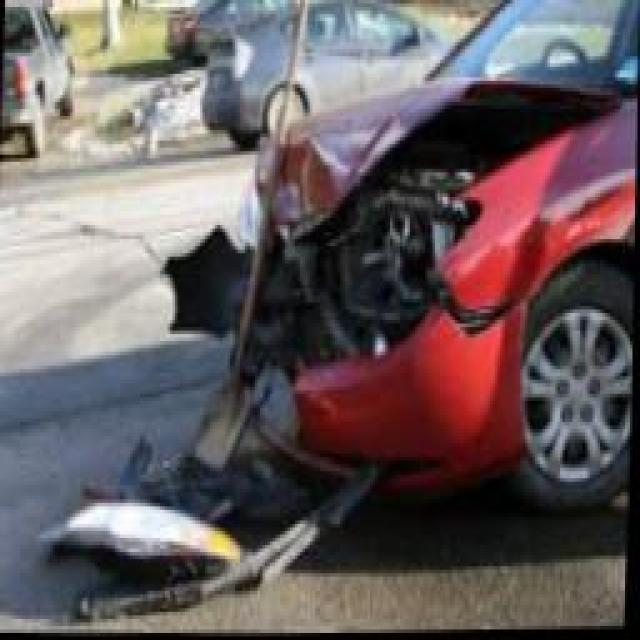Bonnet: (242, 84, 620, 231)
Bumper: (162, 299, 521, 502)
